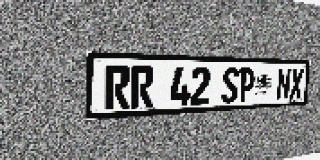2: (190, 67, 210, 105)
4: (170, 66, 191, 106)
N: (276, 68, 291, 100)
P: (238, 68, 255, 102)
R: (105, 65, 130, 110), (130, 66, 154, 109)
S: (221, 67, 239, 103)
X: (289, 69, 304, 100)
